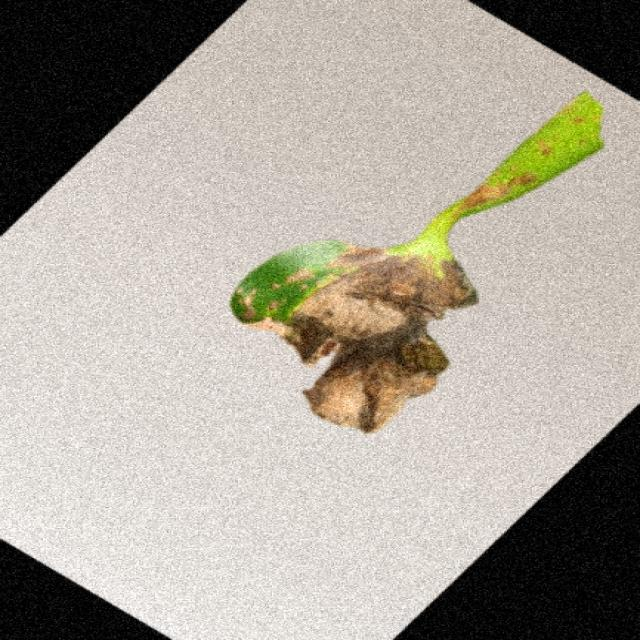daun berpenyakit karat: (230, 92, 603, 432)
